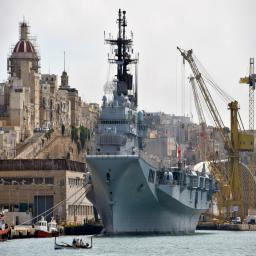Portanaves: (84, 9, 220, 240)
